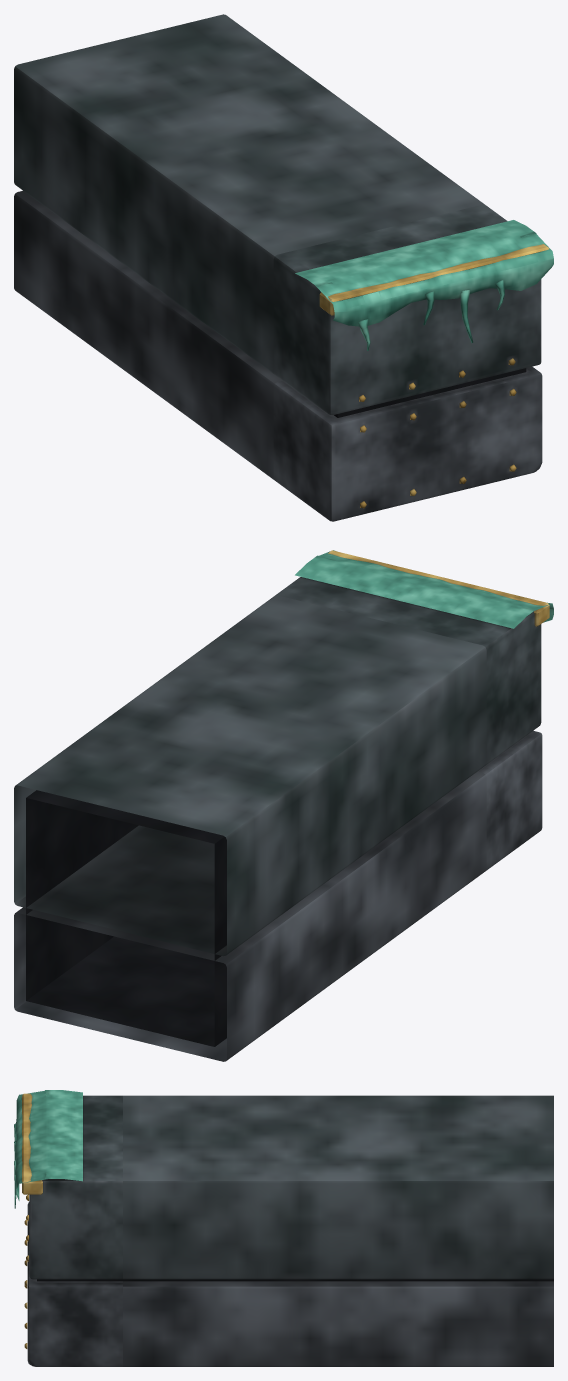
Rendered from ClockLung_Top_A.fbx.
3 renders of one model, top to bottom at view 1: azimuth 30°, elevation 25°; view 2: azimuth 150°, elevation 25°; view 3: azimuth 270°, elevation 25°, orthographic. The views are drawn at different scales.
Visible parts, largest first — view 1: ClockLung_Top_A; view 2: ClockLung_Top_A; view 3: ClockLung_Top_A.
Boxes of the visible parts, box(x1,y1,x2,y2) form: ClockLung_Top_A: box(14, 14, 553, 521); ClockLung_Top_A: box(14, 550, 553, 1061); ClockLung_Top_A: box(14, 1090, 553, 1366).
Size of the model in its own units: 1 by 1 by 2.57.
